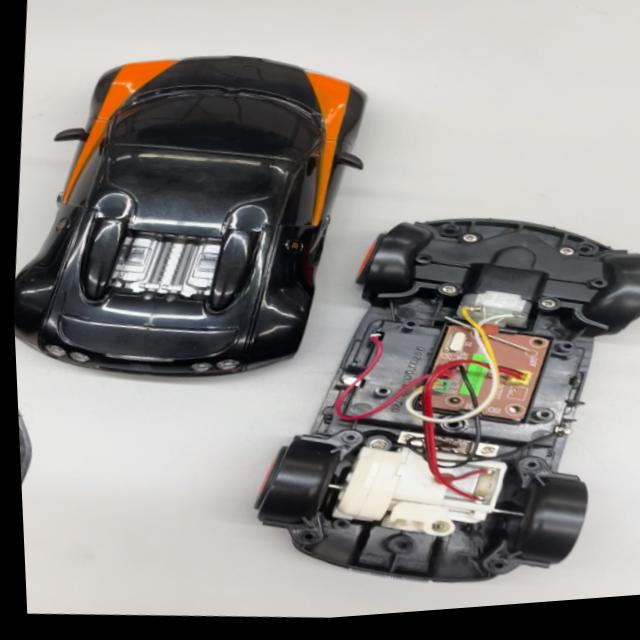Chassis: (231, 183, 640, 616)
vehicle_body: (6, 14, 354, 406)
